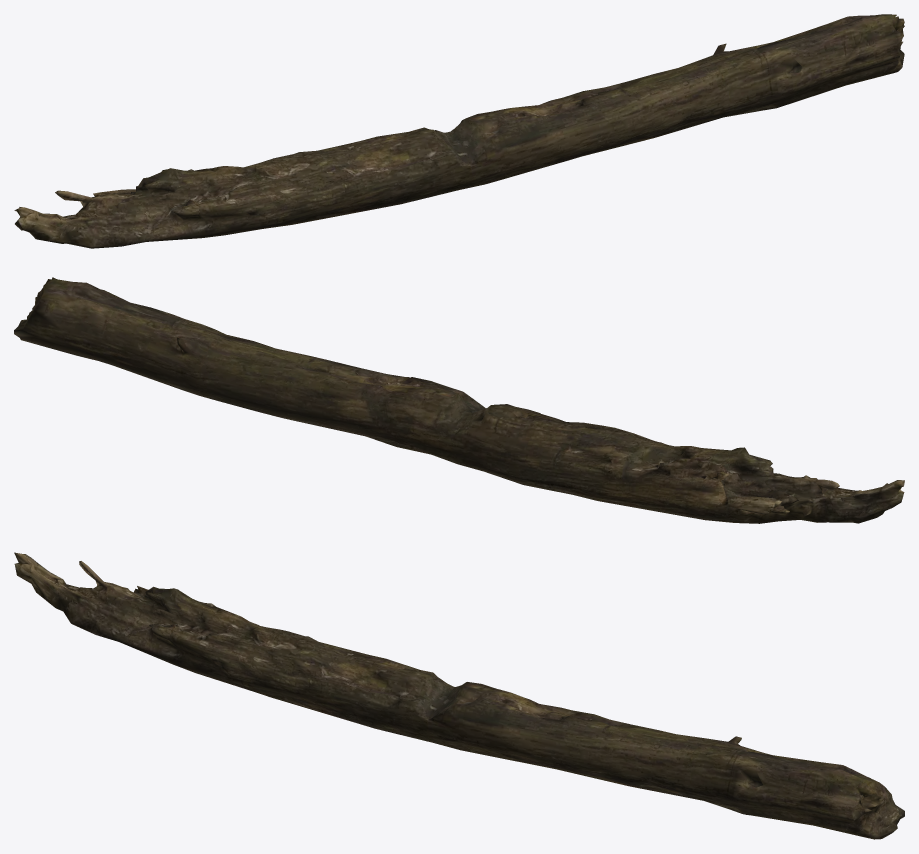
Rendered from dead_tree_trunk.glb.
3 views of the same model, one above another, from view 1: azimuth 30°, elevation 25°; view 2: azimuth 150°, elevation 25°; view 3: azimuth 330°, elevation 25° (orthographic).
Visible parts, largest first — view 1: dead_tree_trunk; view 2: dead_tree_trunk; view 3: dead_tree_trunk.
Part boxes in pixels (left/top/right/bottom): dead_tree_trunk: left=14, top=14, right=904, bottom=248; dead_tree_trunk: left=14, top=277, right=904, bottom=523; dead_tree_trunk: left=14, top=552, right=904, bottom=839.
Size of the model in its own units: 3.05 by 0.2867 by 0.2763.
Materials: 1 (1 with a texture image).
